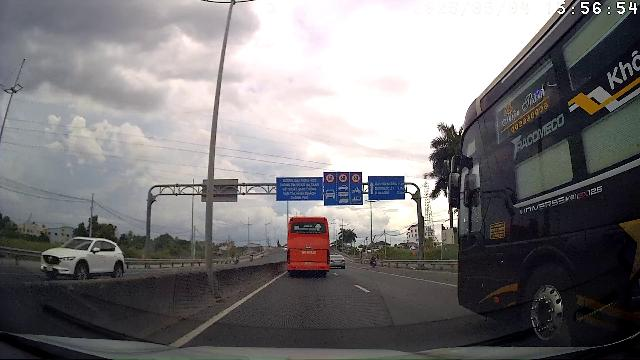127-toc-do-toi-da-60: (324, 172, 335, 184), (337, 172, 349, 183), (351, 172, 361, 183)
